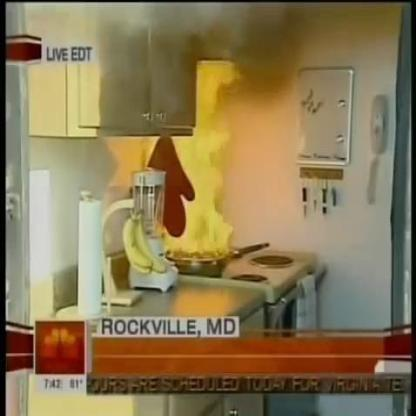fire: (143, 60, 241, 262)
